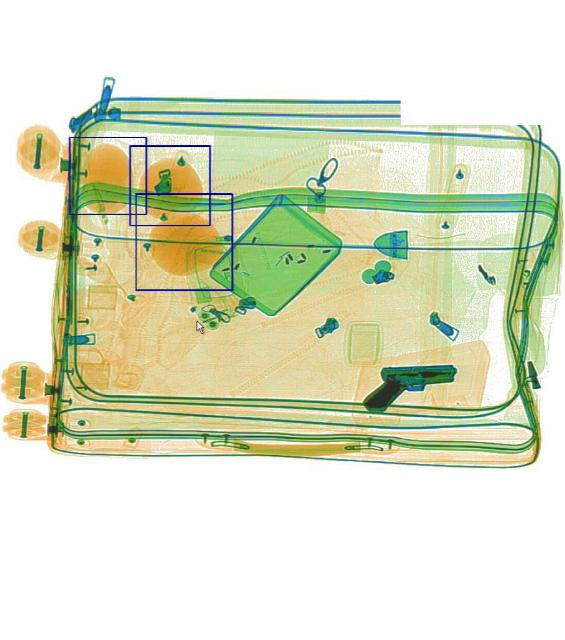Gun: (361, 365, 453, 413)
